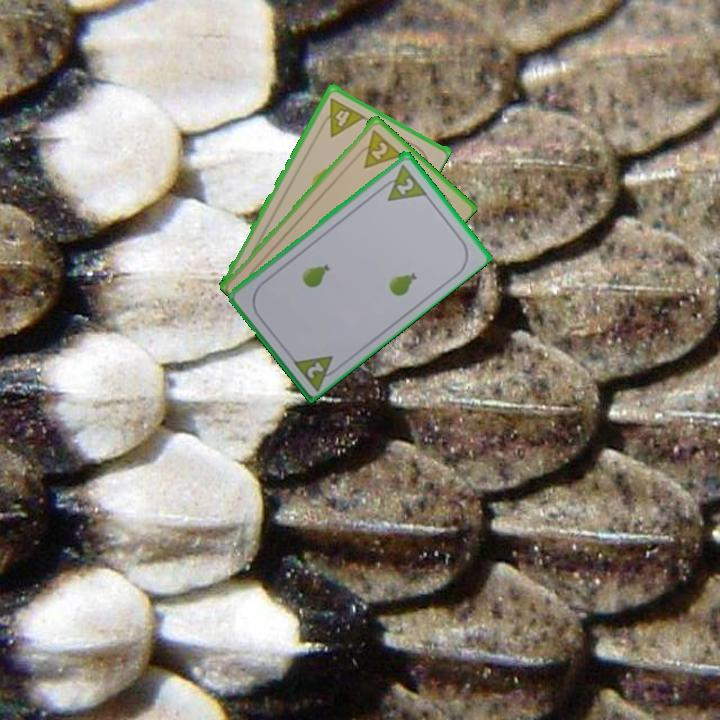2p: (352, 125, 404, 171), (376, 160, 429, 204), (288, 351, 344, 392)
4p: (316, 94, 367, 139)
